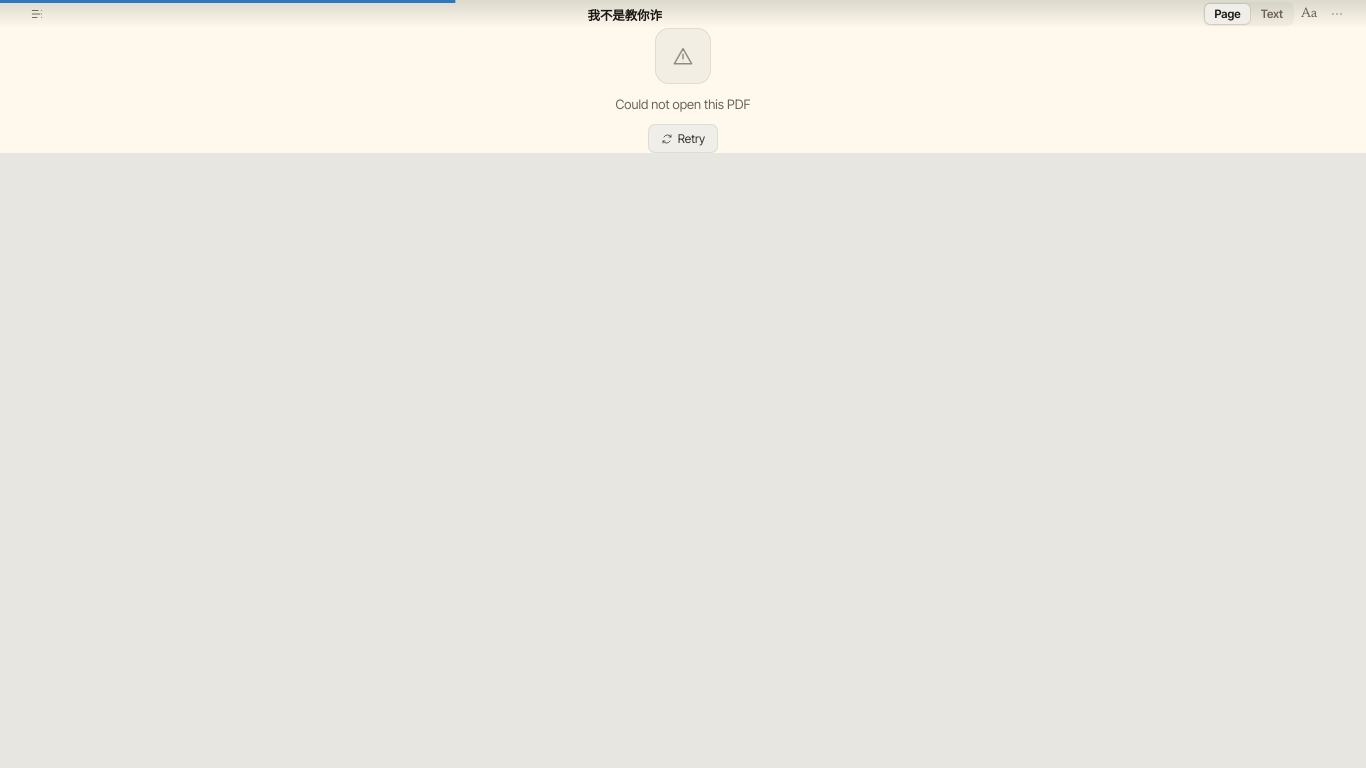
the PDF screen › has no contents to show for a file that carries none
The width and height of the screenshot is (1366, 768).
Step 1. Click the button named "Contents" → (37, 14), box [24,1,50,27]
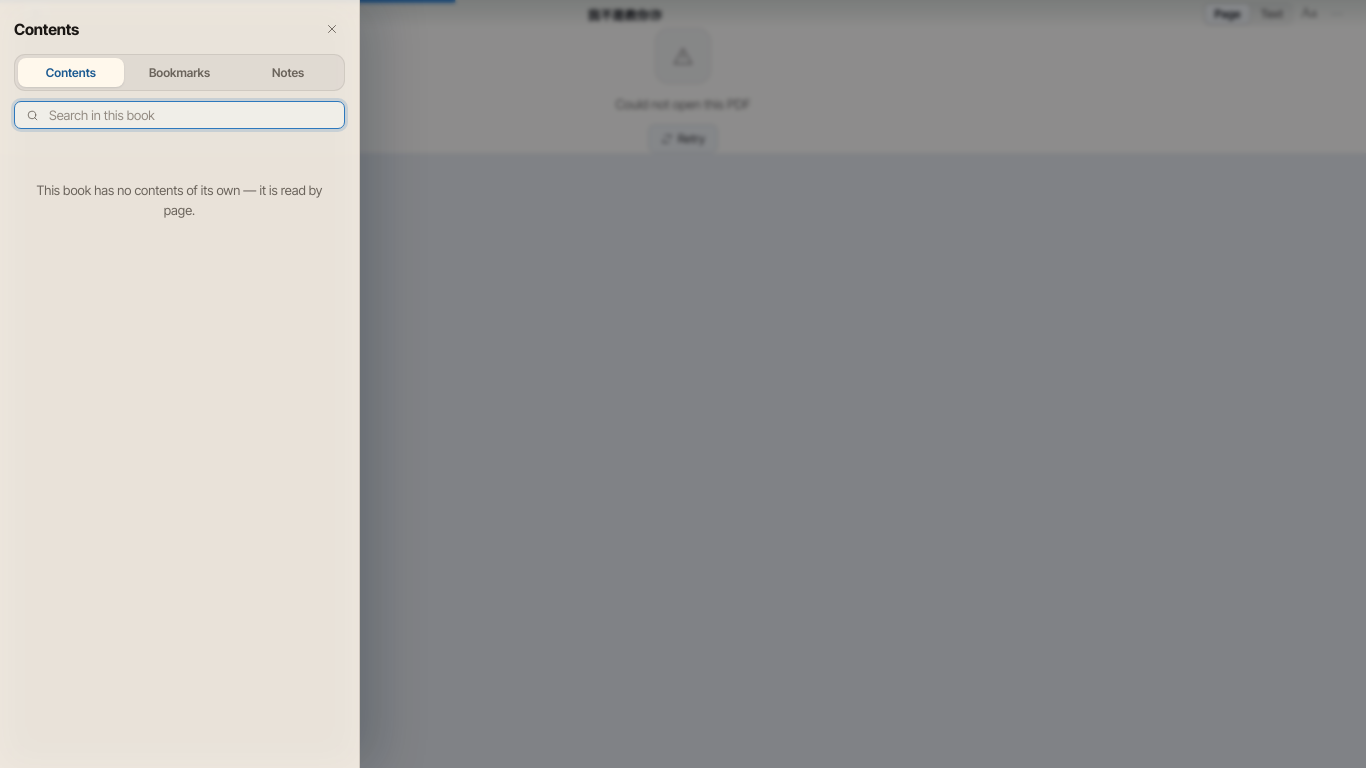
Check: the text "This book has no contents of its own — it is read by page." is shown, box [37,182,322,218]
